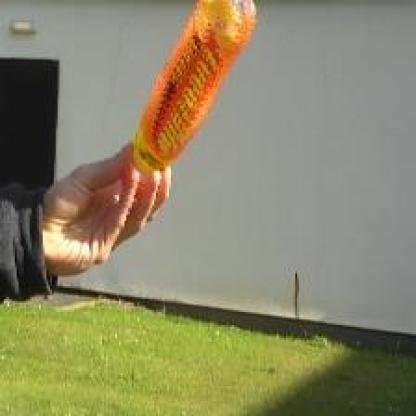other: (102, 0, 270, 180)
